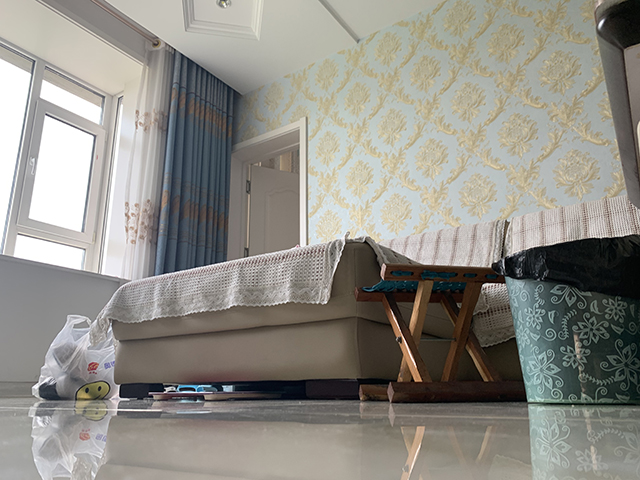sofa: (89, 194, 640, 402)
stool: (352, 262, 526, 404)
trashcan: (492, 233, 639, 406)
